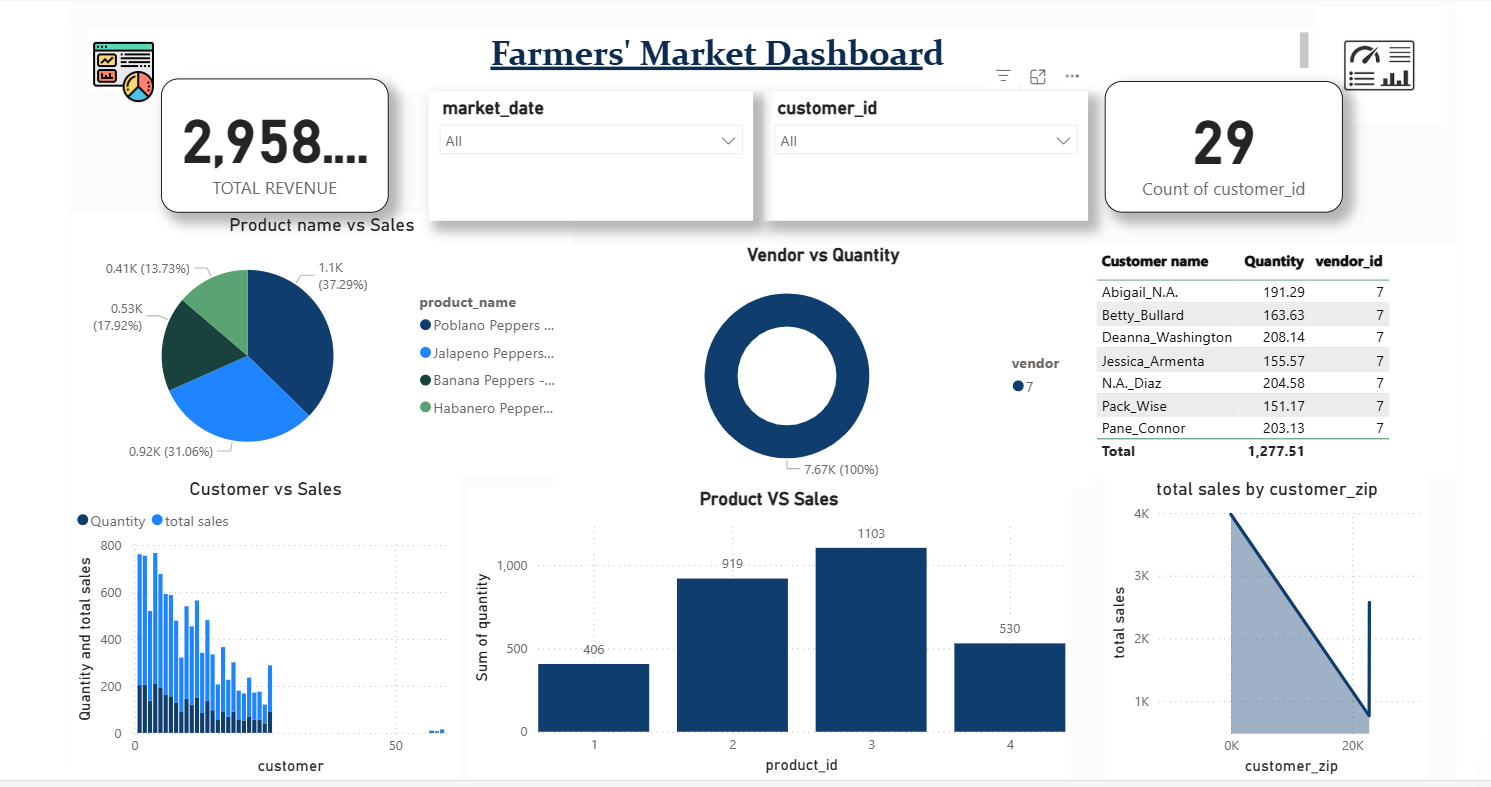

What the dashboard file says about the page in this screenshot:
{"tool":"powerbi","page":{"name":"Duplicate of Quantiity wise ananlysis","canvas":[1280,720],"ordinal":2},"visuals":[{"type":"columnChart","title":"Customer vs Sales","fields":{"Category":["customer_purchases.customer_id"],"Y":["customer_purchases.quantity","booth.total sales"]},"box":[0,440,360,280],"z":0},{"type":"columnChart","title":"Product VS Sales","fields":{"Category":["product.product_id"],"Y":["customer_purchases.quantity"]},"box":[366,450,558,270],"z":1000},{"type":"pieChart","title":"Product name vs Sales","fields":{"Category":["product.product_name"],"Y":["customer_purchases.quantity"]},"box":[0,196.2,463.8,244.3],"z":2000},{"type":"donutChart","title":"Vendor vs Quantity","fields":{"Category":["customer_purchases.vendor_id"],"Y":["booth.total sales"]},"box":[450,224,492,226],"z":3000},{"type":"textbox","box":[15.1,24.7,1133.5,59],"z":4000},{"type":"image","box":[15.1,0,67.2,131.7],"z":5000},{"type":"image","box":[1137.6,0,142.7,119.4],"z":6000},{"type":"card","fields":{"Values":["customer_purchases.quantity"]},"box":[82.9,71.4,210,124.3],"z":7000},{"type":"card","fields":{"Values":["customer_purchases.customer_id"]},"box":[955.7,74.3,220,121.4],"z":8000},{"type":"tableEx","fields":{"Values":["customer.Customer_Full_name","customer_purchases.quantity","customer_purchases.vendor_id"]},"box":[941.3,223.7,338.9,216.8],"z":9000},{"type":"areaChart","fields":{"Category":["customer.customer_zip"],"Y":["booth.total sales"]},"box":[956,440,300,280],"z":10000},{"type":"slicer","fields":{"Values":["customer.customer_id"]},"box":[640,82.9,300,120],"z":11000},{"type":"slicer","fields":{"Values":["market_date_info.market_date"]},"box":[330,82.9,300,120],"z":12000}]}

Visuals, with their boxes on the page's 1280x720 design canvas (x1, y1, x2, y2). These are canvas units, not pixel positions in the 1491x787 screenshot, which may show the page scaled, cropped or inside an application window:
"Customer vs Sales" columnChart: {"left": 0, "top": 440, "right": 360, "bottom": 720}
"Product VS Sales" columnChart: {"left": 366, "top": 450, "right": 924, "bottom": 720}
"Product name vs Sales" pieChart: {"left": 0, "top": 196, "right": 464, "bottom": 440}
"Vendor vs Quantity" donutChart: {"left": 450, "top": 224, "right": 942, "bottom": 450}
textbox: {"left": 15, "top": 25, "right": 1149, "bottom": 84}
image: {"left": 15, "top": 0, "right": 82, "bottom": 132}
image: {"left": 1138, "top": 0, "right": 1280, "bottom": 119}
card - customer_purchases.quantity: {"left": 83, "top": 71, "right": 293, "bottom": 196}
card - customer_purchases.customer_id: {"left": 956, "top": 74, "right": 1176, "bottom": 196}
tableEx - customer.Customer_Full_name x customer_purchases.quantity: {"left": 941, "top": 224, "right": 1280, "bottom": 440}
areaChart - customer.customer_zip x booth.total sales: {"left": 956, "top": 440, "right": 1256, "bottom": 720}
slicer - customer.customer_id: {"left": 640, "top": 83, "right": 940, "bottom": 203}
slicer - market_date_info.market_date: {"left": 330, "top": 83, "right": 630, "bottom": 203}
